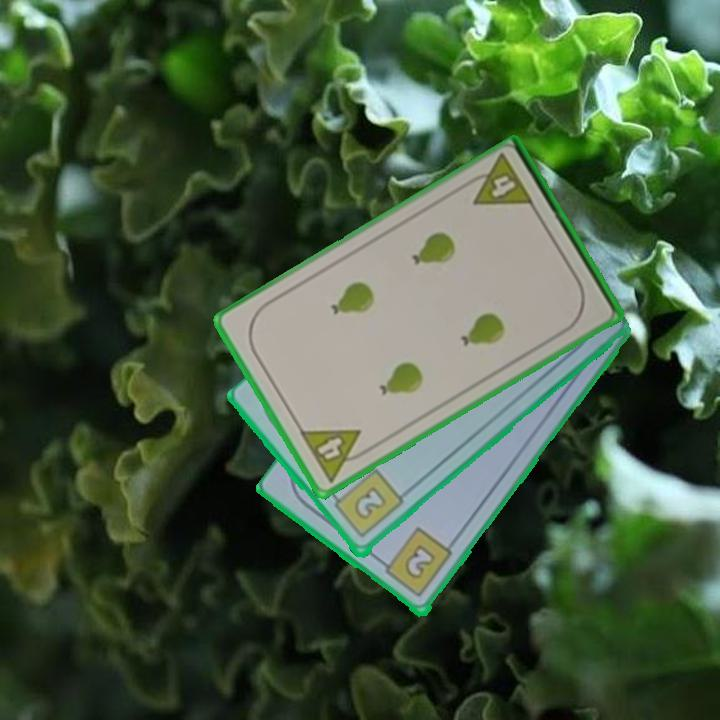2b: (375, 525, 455, 601), (327, 466, 406, 542)
4p: (296, 425, 374, 485), (460, 151, 537, 210)
